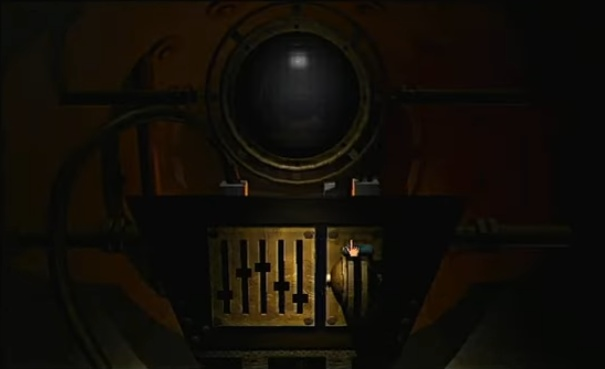Pointer: (341, 236, 364, 259)
